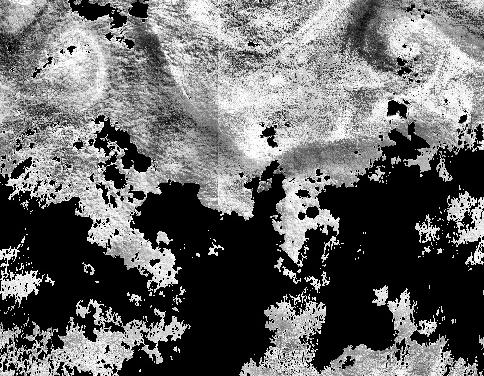CE: (20, 20, 112, 110), (383, 11, 440, 65)
